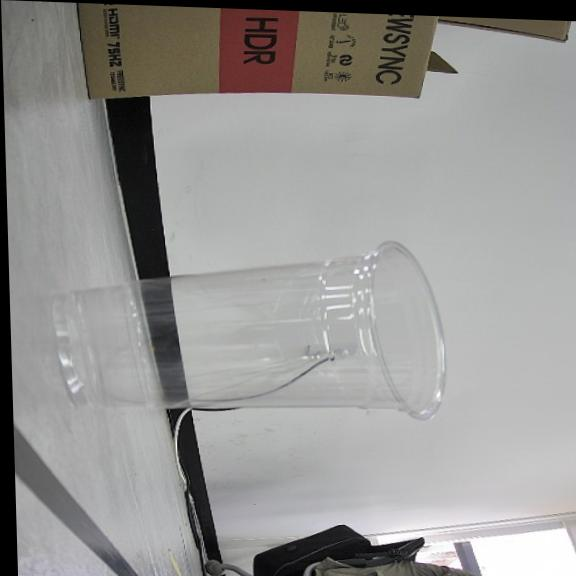Plastik: (52, 243, 443, 419)
